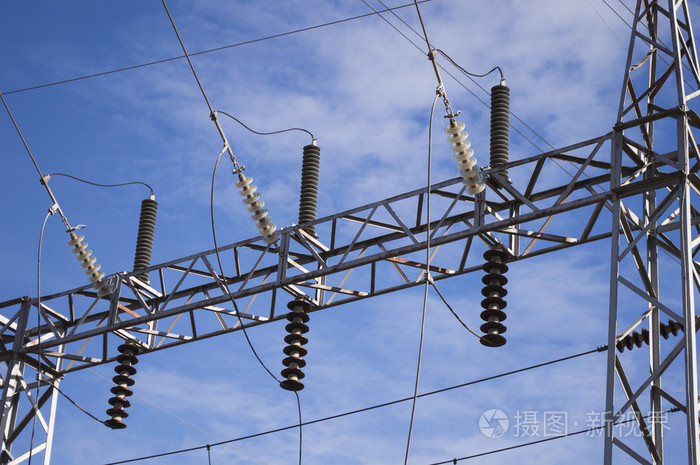insulator: (101, 340, 146, 429), (276, 299, 314, 394), (479, 249, 513, 348), (446, 119, 484, 194), (235, 176, 278, 236), (616, 318, 680, 352), (68, 234, 105, 286)
